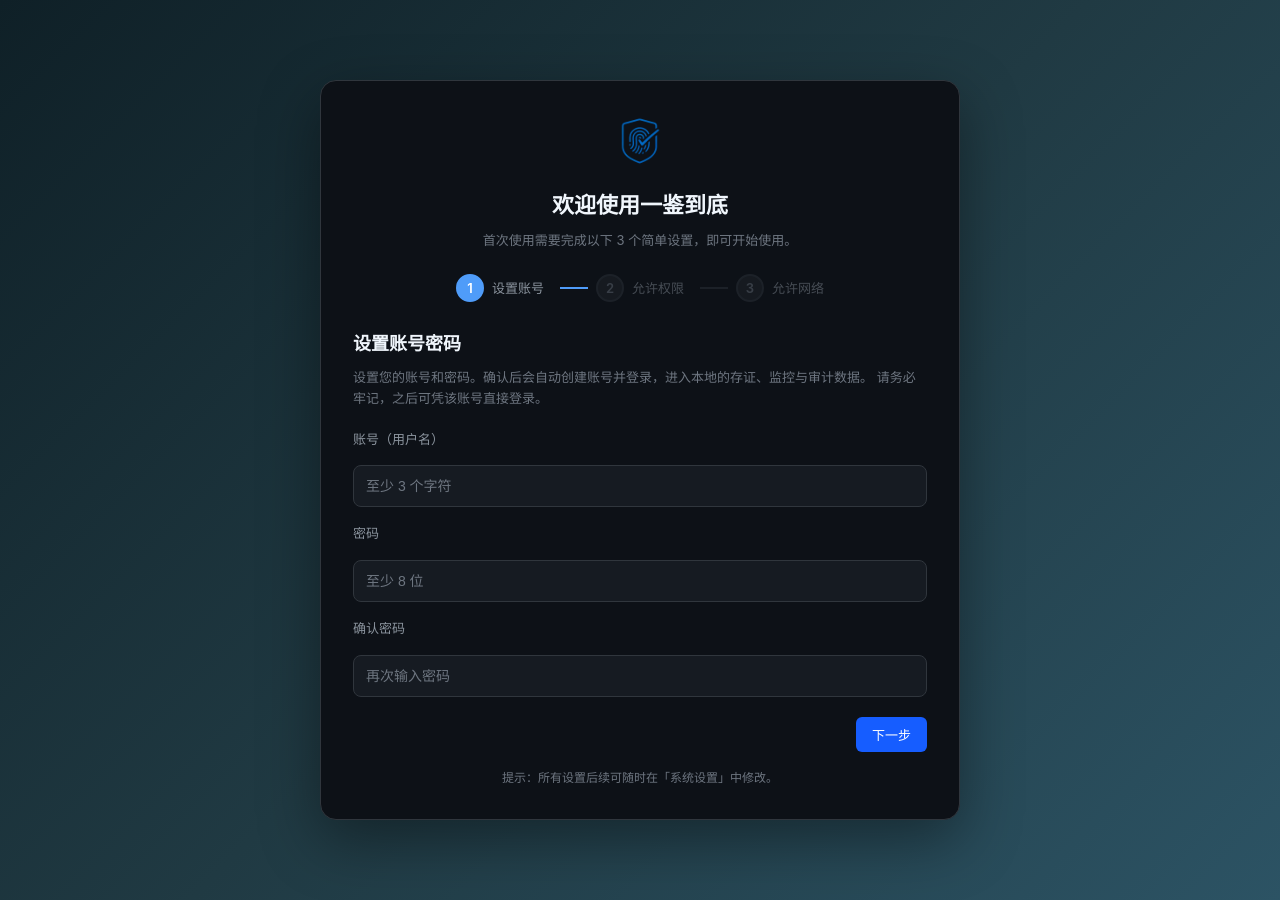
Test: SetupWizard 错误处理 › 写入权限：IPC 网络失败（reject）时显示系统错误并停留在权限步骤
The width and height of the screenshot is (1280, 900).
Check: the heading "欢迎使用一鉴到底" is shown, box [552,192,728,218]
In the field with placeholder "至少 3 个字符": x=640, y=486 [353,466,927,508], type "admin"
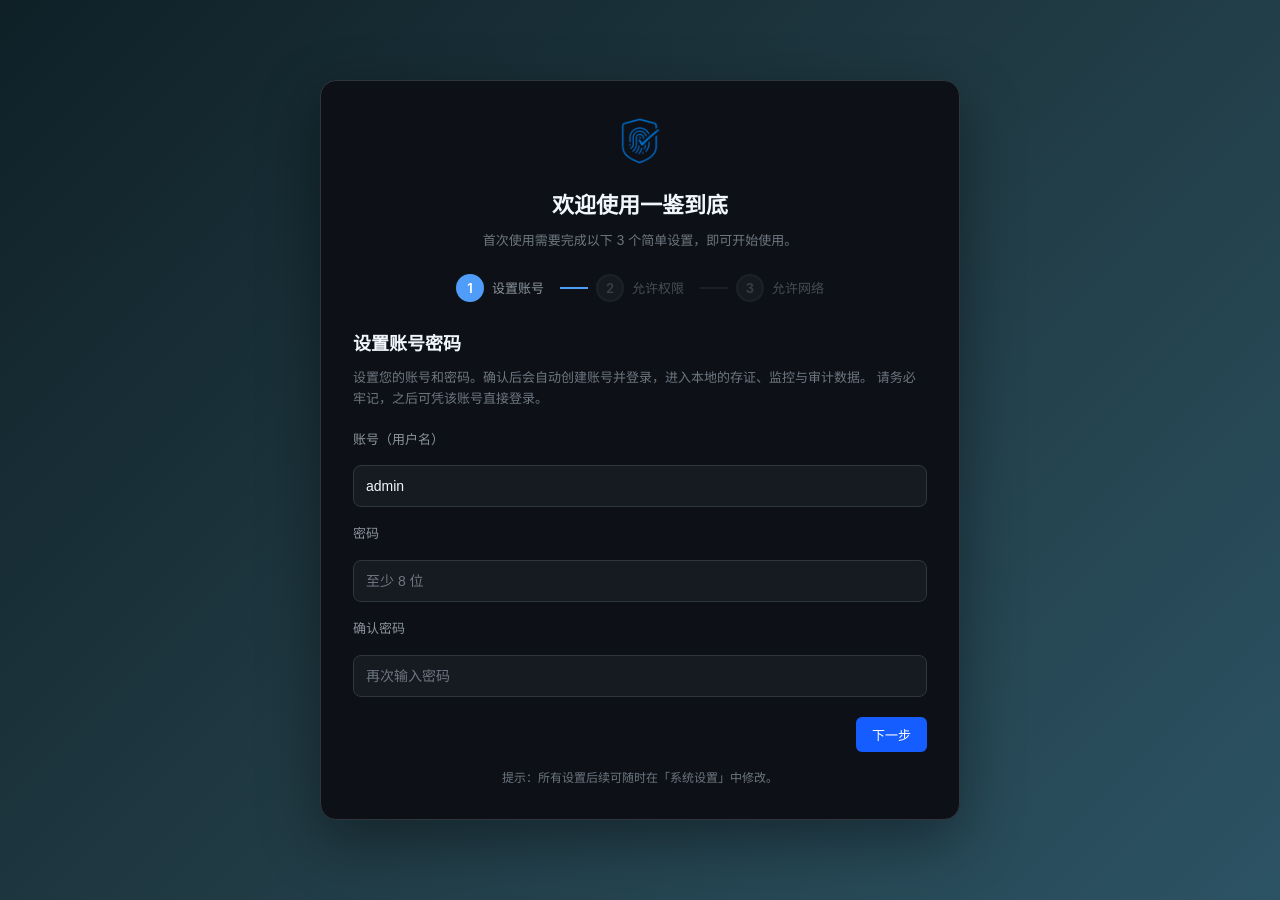
In the password field with placeholder "至少 8 位": x=640, y=581 [353,560,927,602], type "secret123"
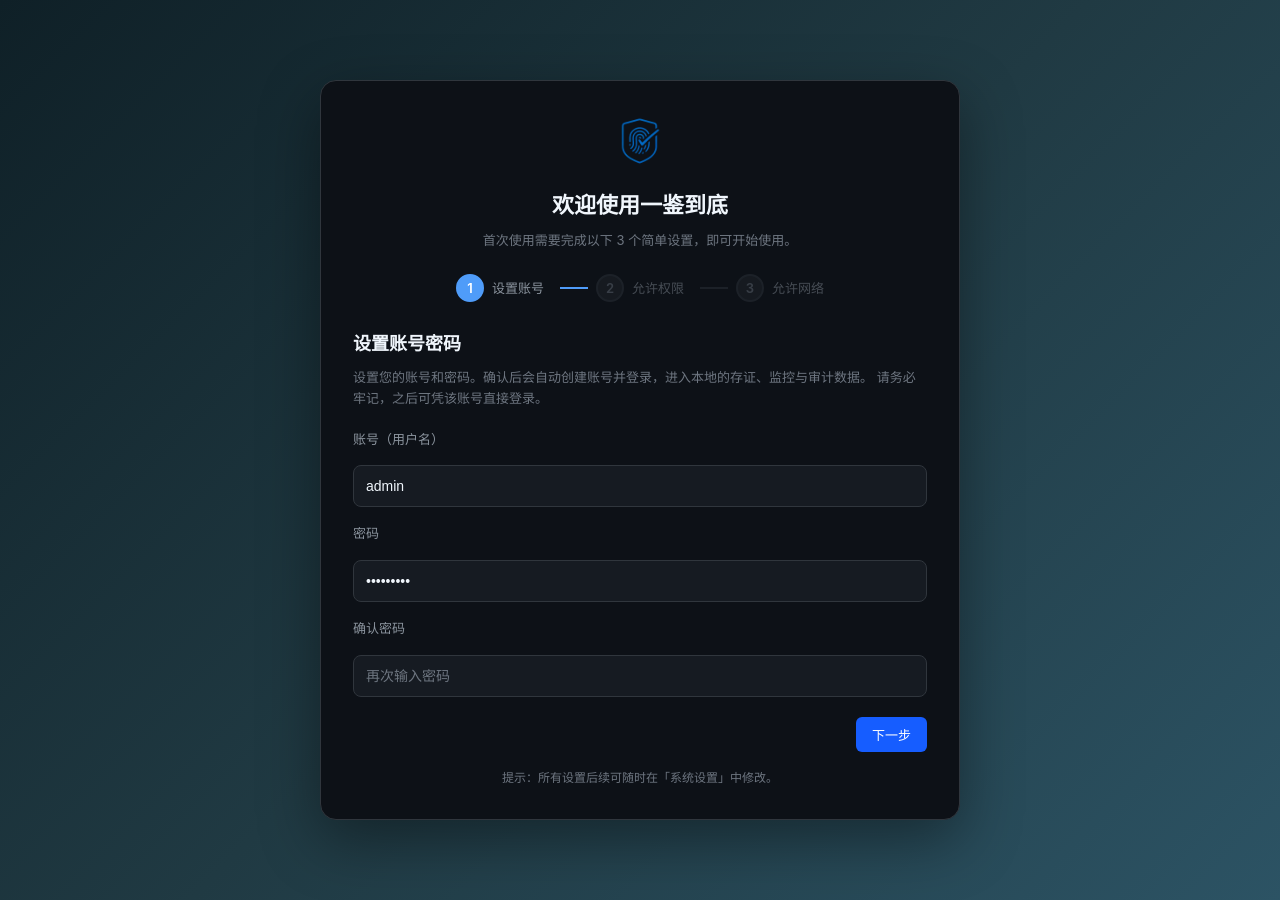
In the password field with placeholder "再次输入密码": x=640, y=676 [353,655,927,697], type "secret123"
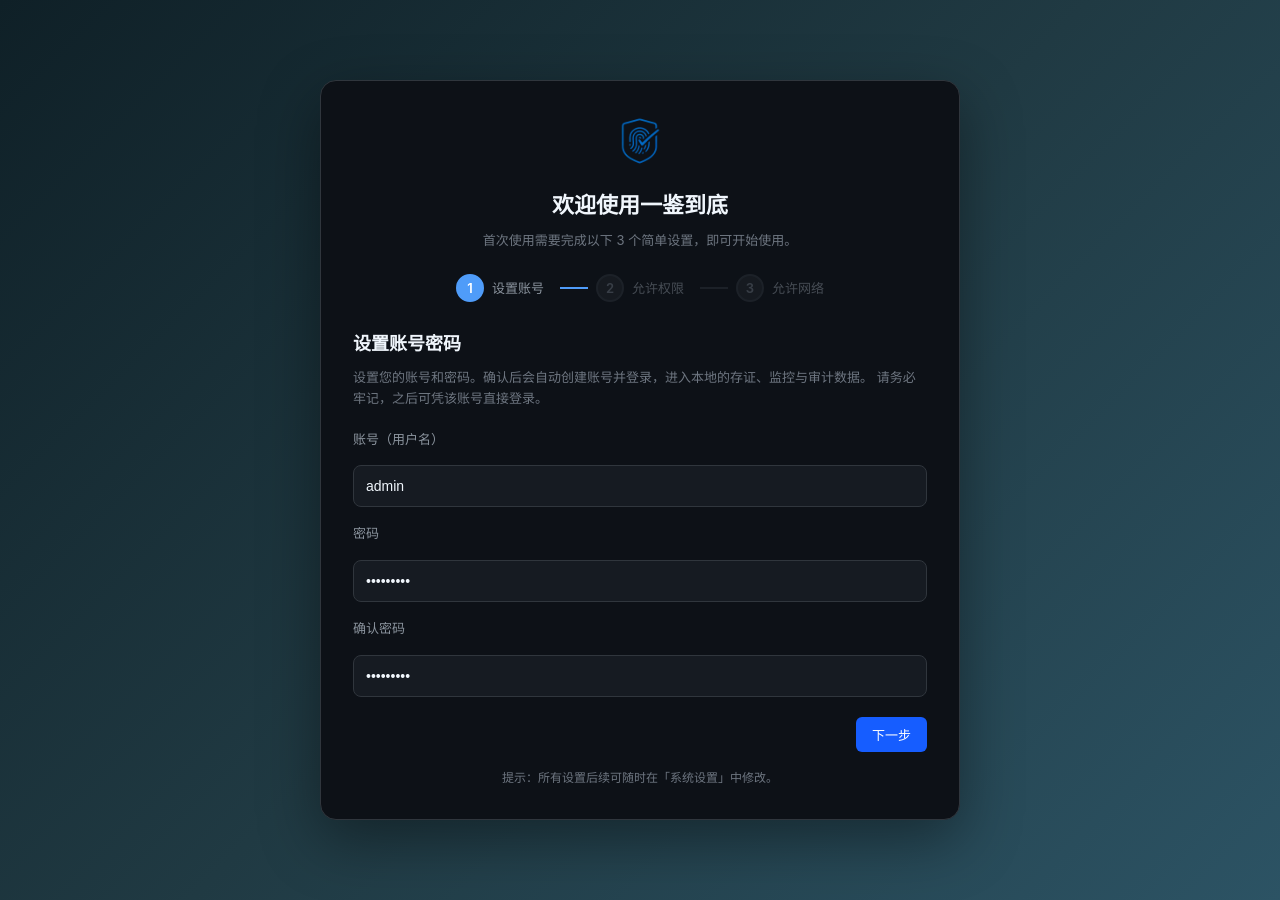
Click the button "下一步": x=892, y=735 [856,717,927,752]
(page scrolled)
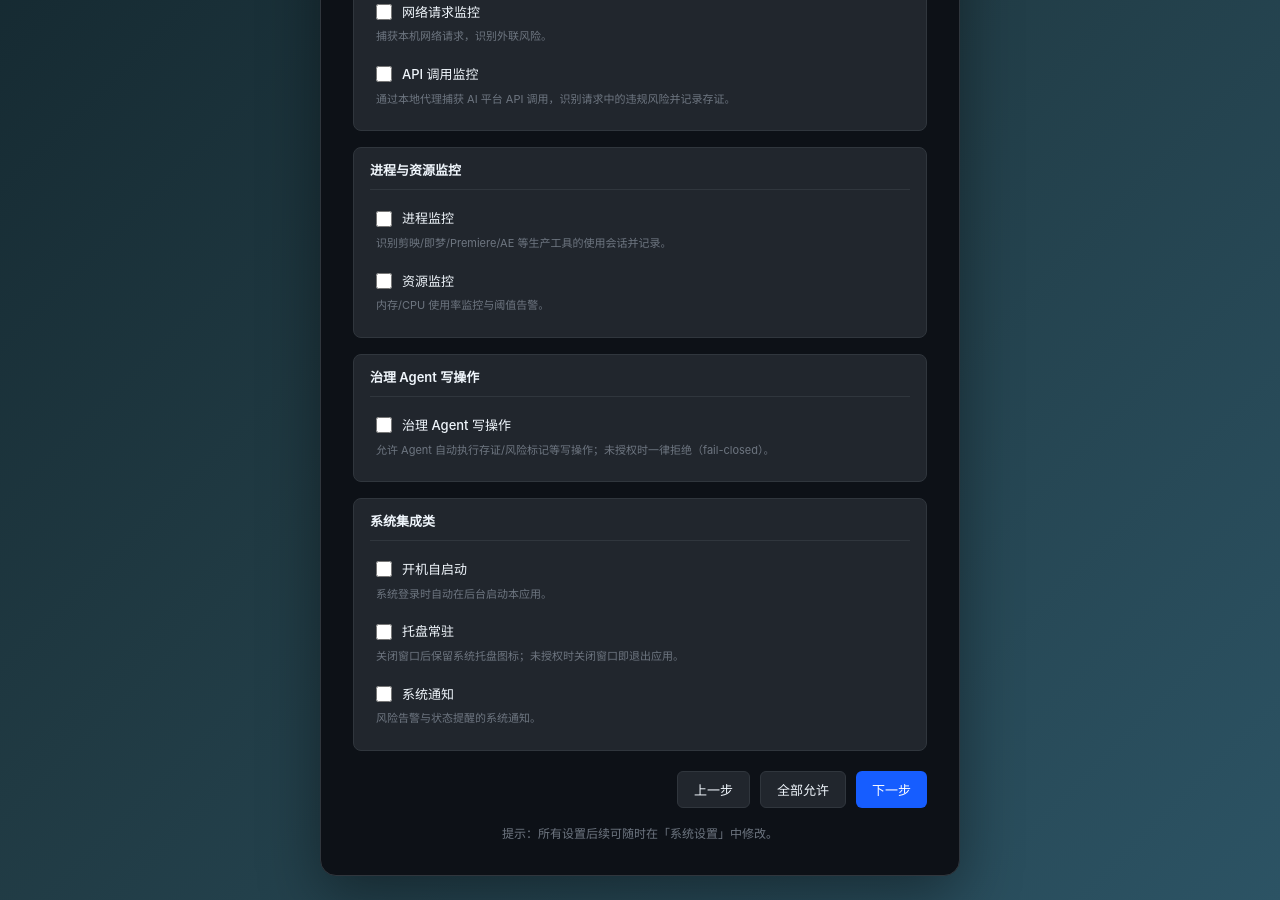
Click the button "下一步": x=892, y=790 [856,771,927,808]
(page scrolled)
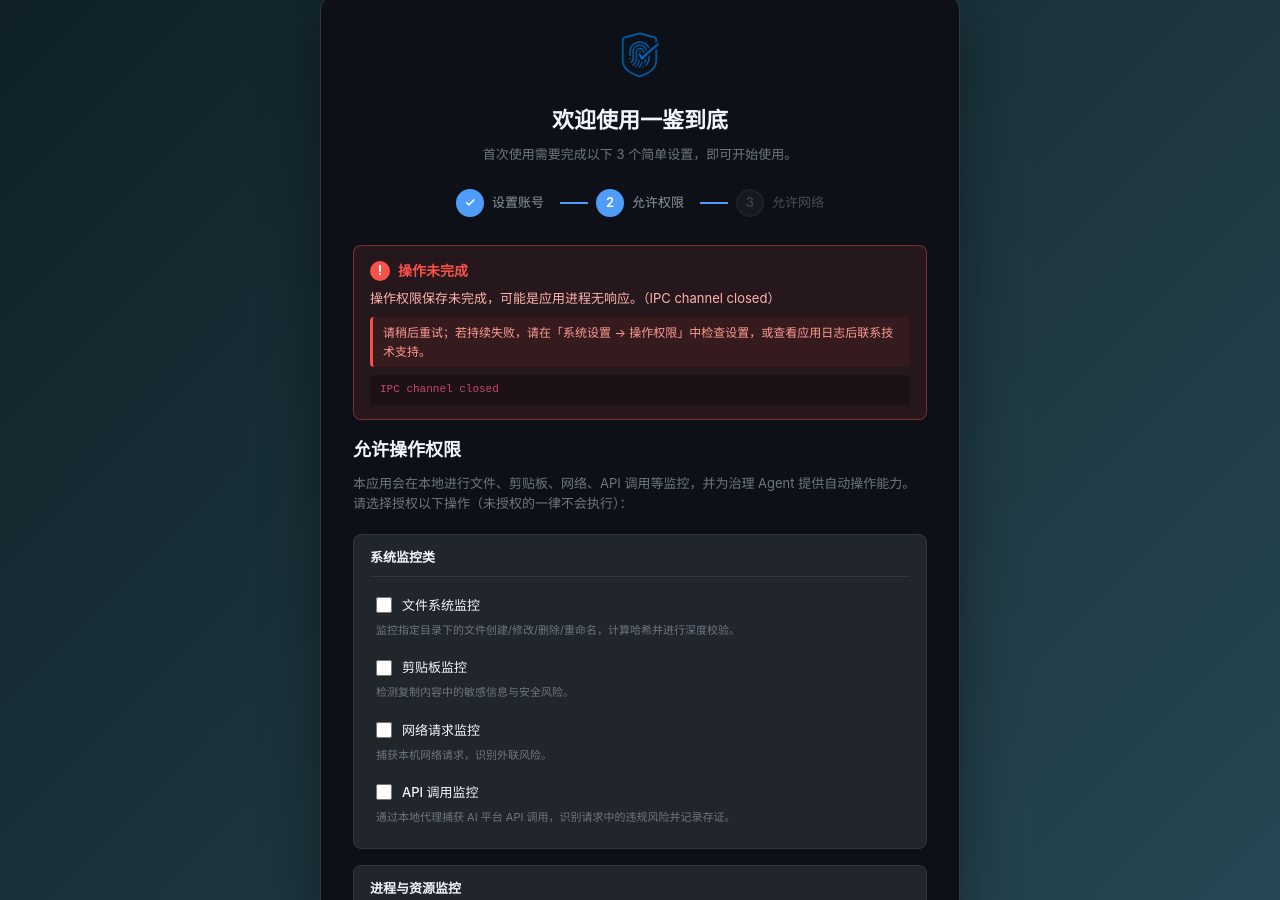
Check: the message shows "操作未完成", box [398,262,468,279]
Check: the message shows "操作权限保存未完成，可能是应用进程无响应", box [370,290,780,306]
Check: the message shows "IPC channel closed", box [380,383,499,395]
